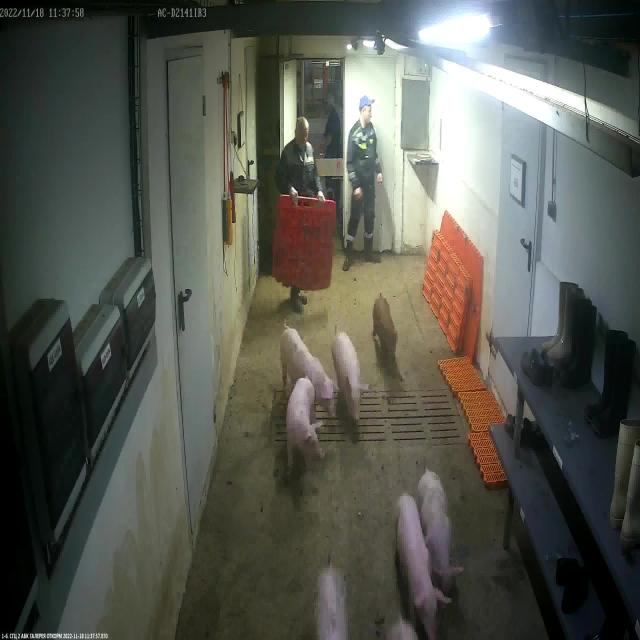pig: (398, 496, 450, 640), (419, 471, 460, 593), (280, 328, 337, 414), (332, 332, 372, 427), (288, 378, 325, 471), (315, 567, 349, 640), (372, 299, 397, 358), (388, 621, 418, 640)
